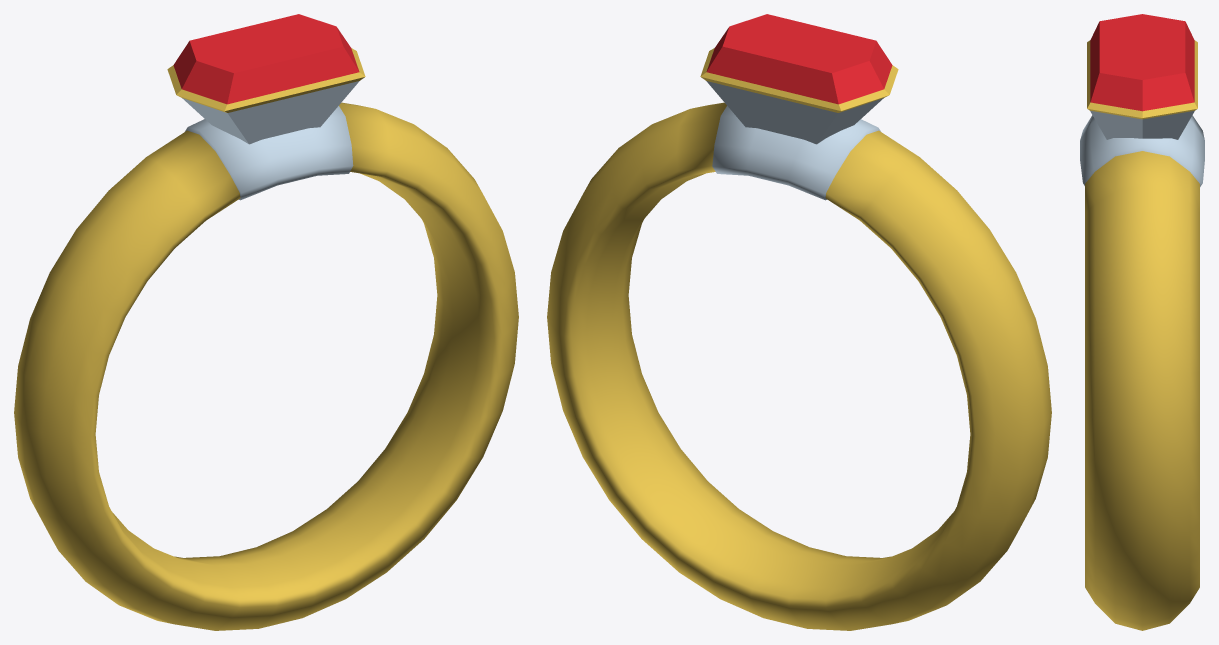
The model's file is anelVermelho.fbx.
3 renders of one model, left to right at view 1: azimuth 30°, elevation 25°; view 2: azimuth 150°, elevation 25°; view 3: azimuth 270°, elevation 25°, orthographic. The views are drawn at different scales.
Parts seen in each view (by area): view 1: Anel, Joia; view 2: Anel, Joia; view 3: Anel, Joia.
Boxes of the visible parts, box(x1,y1,x2,y2) form: Anel: box(14, 102, 518, 630); Joia: box(167, 14, 365, 144); Anel: box(547, 102, 1051, 630); Joia: box(700, 14, 898, 144); Anel: box(1080, 115, 1204, 630); Joia: box(1087, 14, 1197, 139).
Size of the model in its own units: 250 by 281 by 57.11.
